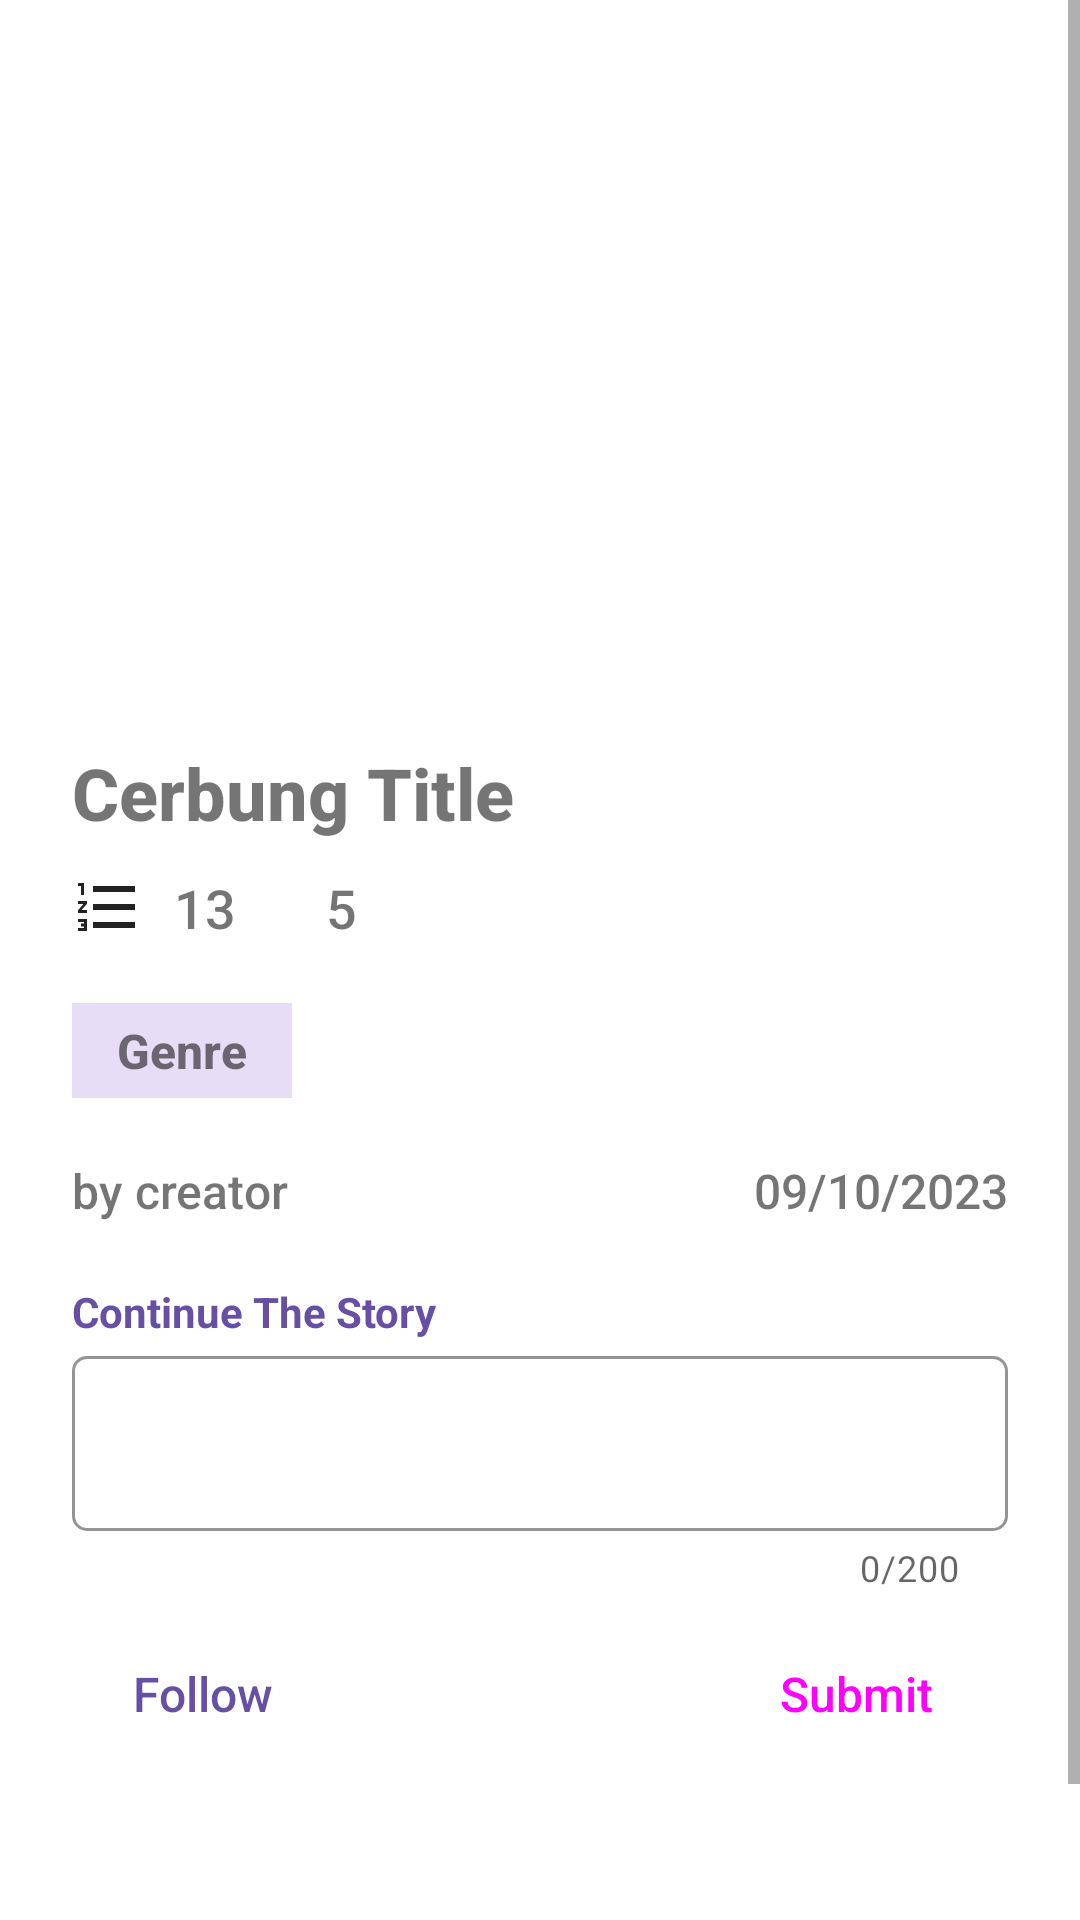

Where to tap for icons on this 1080*1920 app screen, as [x,y]:
format list numbered: [106,907]
